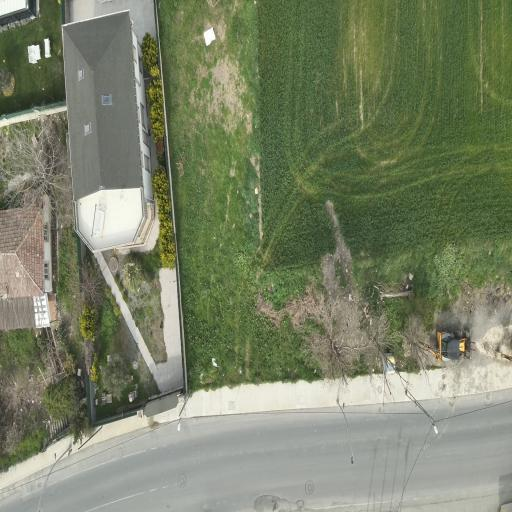car: (431, 331, 472, 360)
